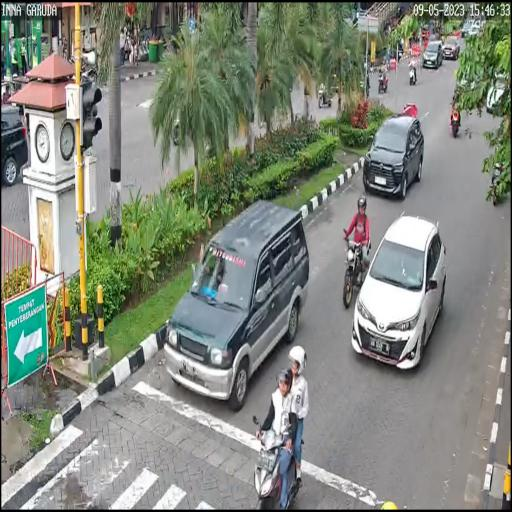mobil: (164, 194, 314, 410), (349, 214, 447, 380), (361, 108, 425, 200)
motor: (239, 409, 309, 512), (340, 220, 372, 323)
